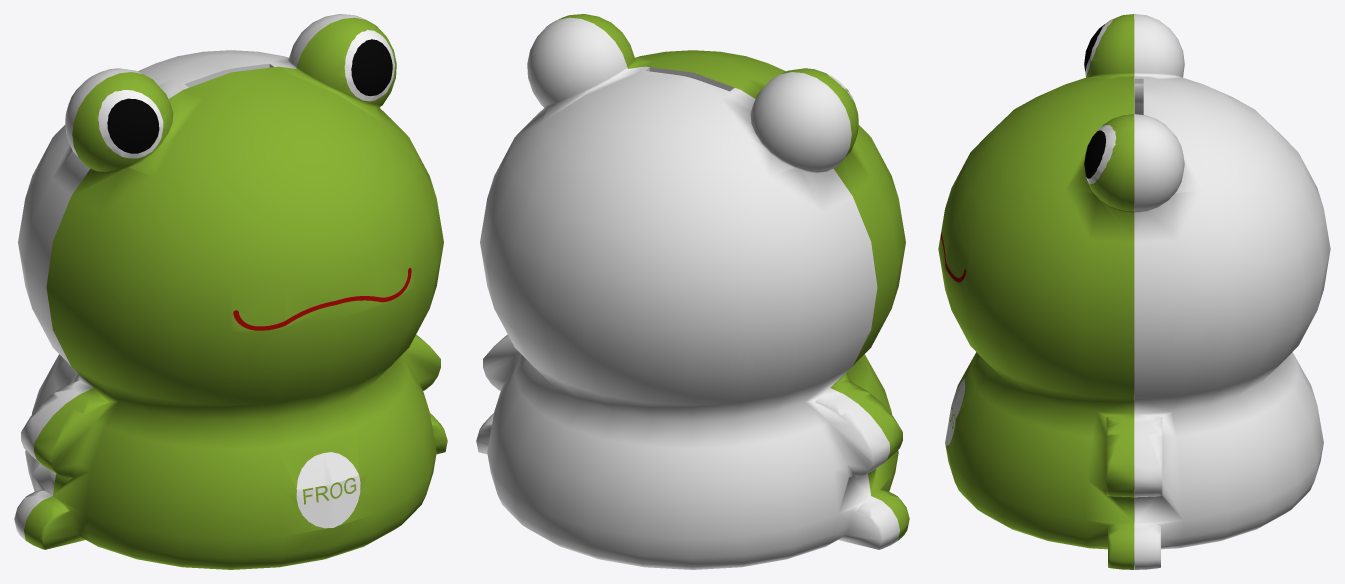
Rendered from cute-frog.fbx.
3 views of the same model, side by side, from view 1: azimuth 30°, elevation 25°; view 2: azimuth 150°, elevation 25°; view 3: azimuth 270°, elevation 25° (orthographic). The views are drawn at different scales.
Parts seen in each view (by area): view 1: Group_003, Group_002; view 2: Group_002, Group_003; view 3: Group_003, Group_002, Group_006.
Boxes of the visible parts, bbox=[...] form: Group_003: bbox=[24, 17, 447, 569]; Group_002: bbox=[14, 14, 372, 540]; Group_002: bbox=[476, 17, 899, 569]; Group_003: bbox=[551, 14, 909, 540]; Group_003: bbox=[938, 14, 1134, 569]; Group_002: bbox=[1134, 14, 1330, 569]; Group_006: bbox=[1134, 19, 1134, 564].
Bounding box in the file's own units: 2428 × 2490 × 2163.
